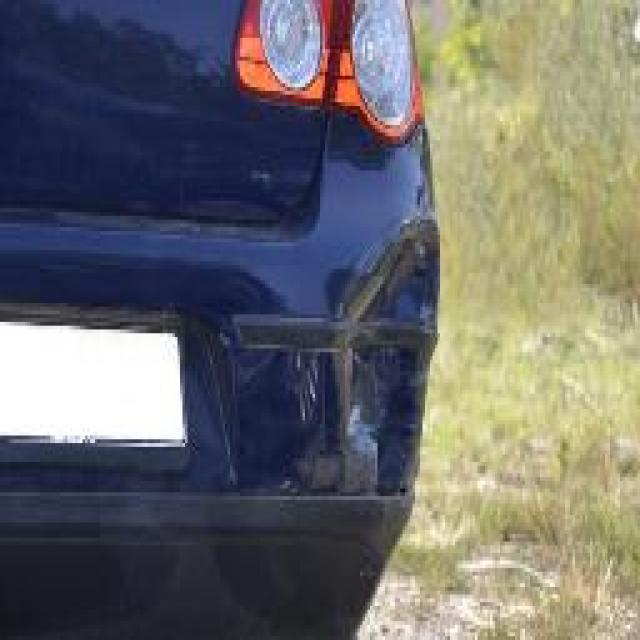Bumper: (330, 189, 438, 489)
